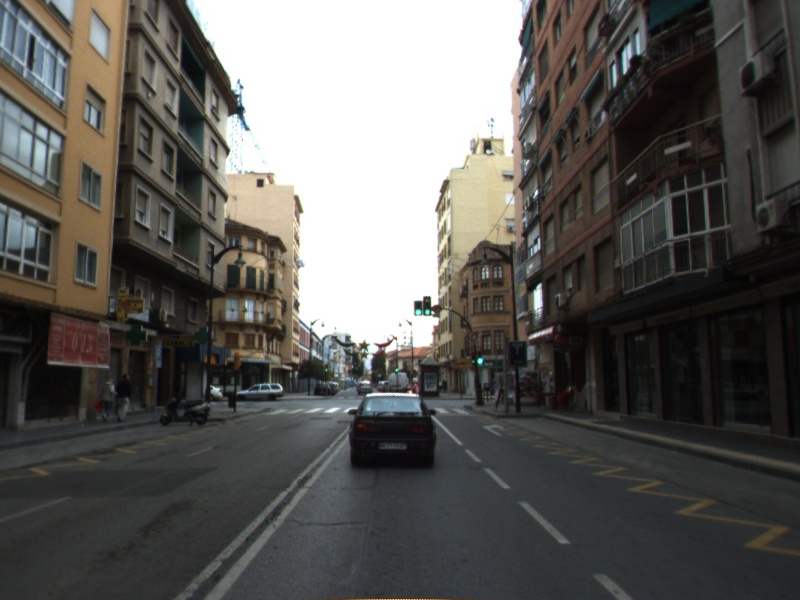RIGHT: (480, 422, 506, 438)
